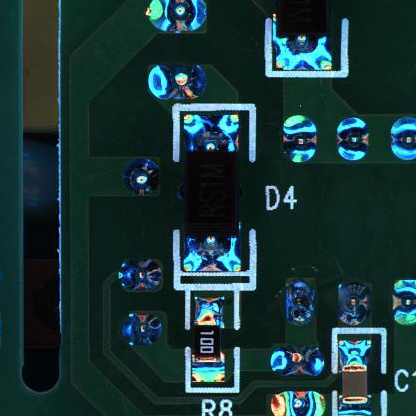spot: (143, 1, 212, 36), (148, 61, 208, 100), (278, 111, 320, 164), (116, 310, 169, 348), (269, 345, 326, 380), (333, 276, 371, 328), (279, 277, 319, 326), (334, 114, 371, 163), (268, 386, 328, 416), (121, 156, 164, 197), (118, 255, 164, 292), (388, 113, 416, 164), (390, 277, 416, 326)
